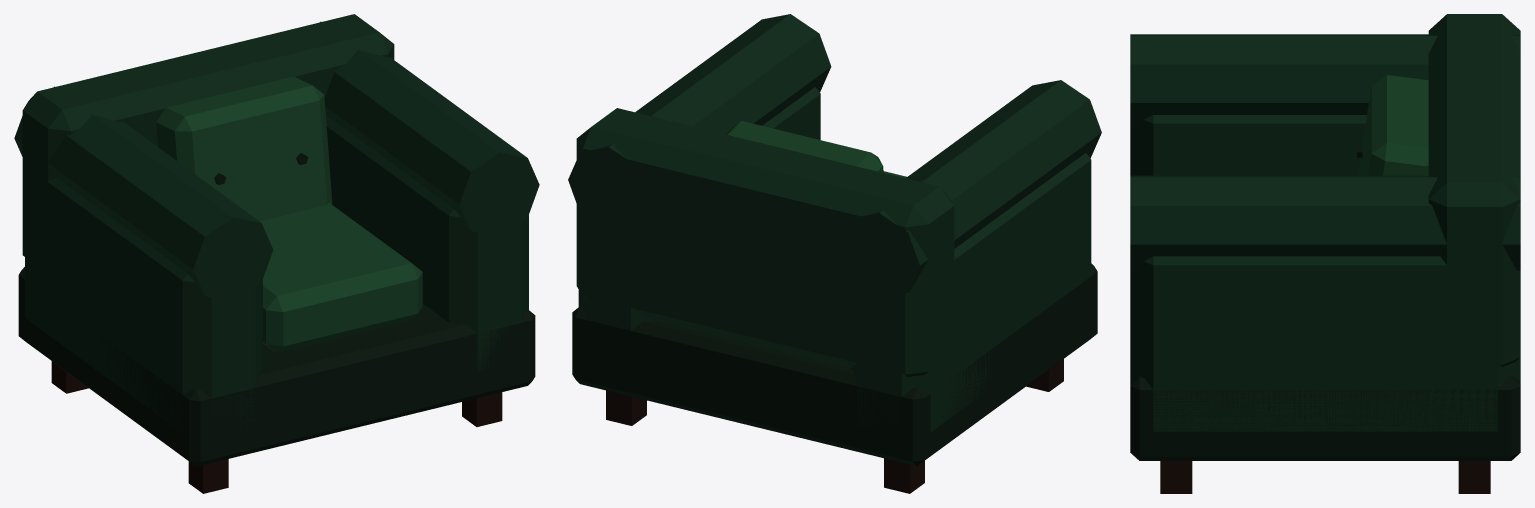
The model's file is SM_Hide_Armchair_Green.glb.
3 views of the same model, side by side, from view 1: azimuth 30°, elevation 25°; view 2: azimuth 150°, elevation 25°; view 3: azimuth 270°, elevation 25° (orthographic). The views are drawn at different scales.
Parts seen in each view (by area): view 1: SM_Hide_Armchair_Green-col; view 2: SM_Hide_Armchair_Green-col; view 3: SM_Hide_Armchair_Green-col.
Part boxes in pixels (x1,y1,x2,y2): SM_Hide_Armchair_Green-col: (14,14,539,493); SM_Hide_Armchair_Green-col: (568,14,1101,493); SM_Hide_Armchair_Green-col: (1130,14,1520,493).
Bounding box in the file's own units: 0.95 × 0.76 × 0.85.
